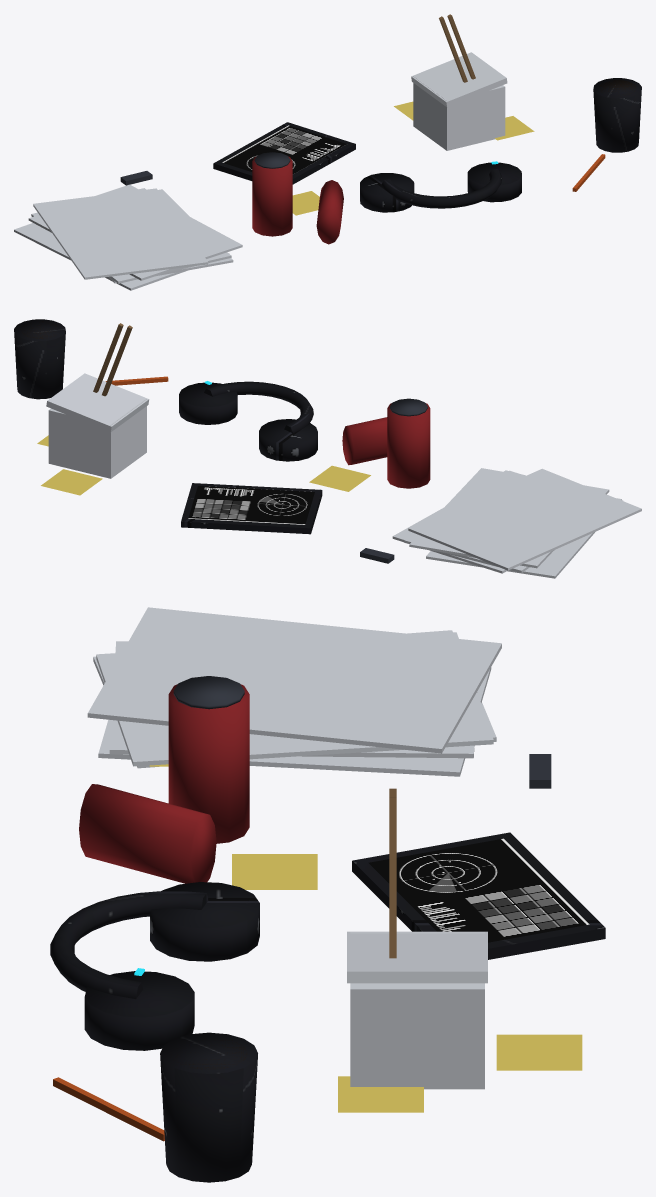
File: Deco_DeskClutter.gltf
3 renders of one model, top to bottom at view 1: azimuth 30°, elevation 25°; view 2: azimuth 150°, elevation 25°; view 3: azimuth 270°, elevation 25°, orthographic. The views are drawn at different scales.
Parts seen in each view (by area): view 1: Deco_DeskClutter; view 2: Deco_DeskClutter; view 3: Deco_DeskClutter.
Part boxes in pixels (x1,y1,x2,y2): Deco_DeskClutter: (14,14,641,290); Deco_DeskClutter: (14,319,641,578); Deco_DeskClutter: (50,607,605,1182).
Size of the model in its own units: 1.07 by 0.2274 by 0.453.
10 materials, 2 textured.
